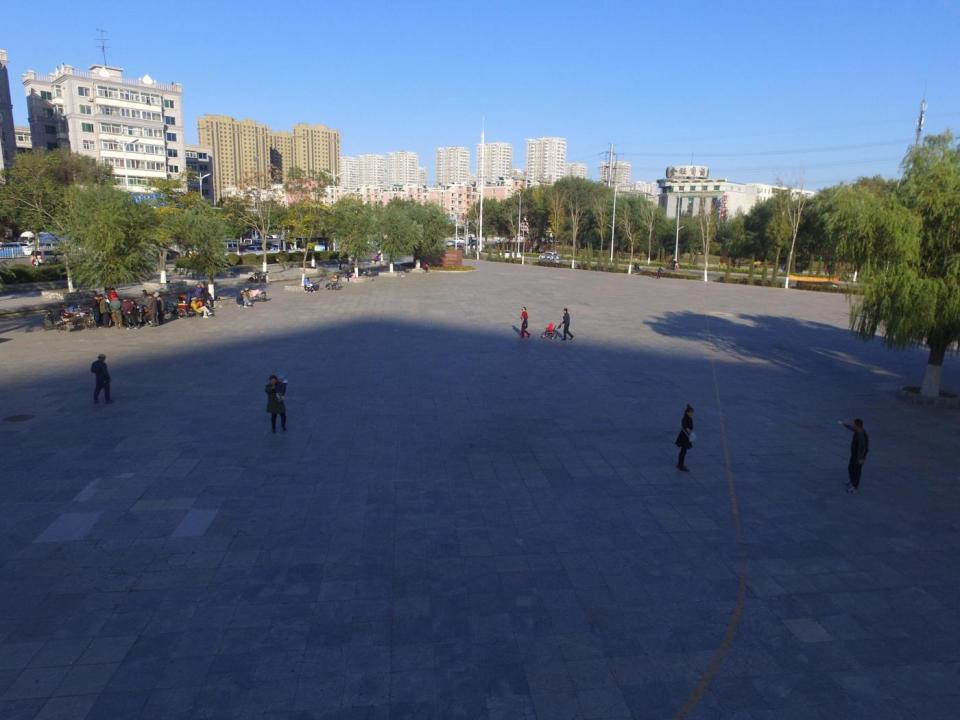car: (17, 242, 49, 259), (147, 245, 181, 259), (6, 240, 34, 256), (243, 245, 271, 259), (496, 249, 521, 260), (537, 251, 558, 263), (236, 242, 256, 254), (270, 244, 293, 254)
van: (30, 248, 76, 264), (36, 240, 68, 258), (0, 242, 25, 258), (219, 241, 245, 256), (243, 237, 266, 252), (540, 254, 563, 266)
